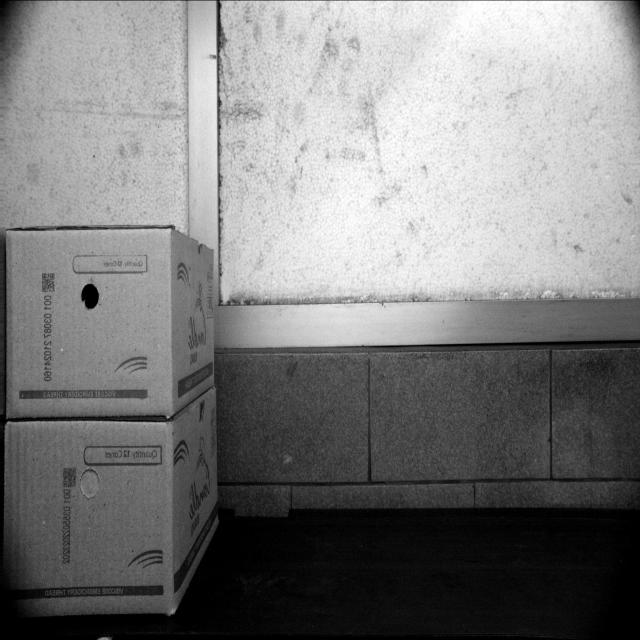cardboxes: (7, 422, 175, 620), (7, 228, 174, 416)
